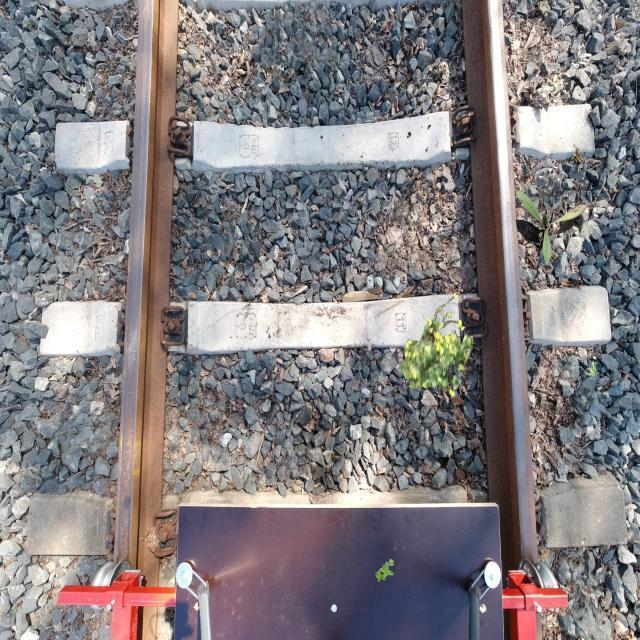Plant: (399, 293, 474, 398), (516, 190, 588, 264), (375, 559, 394, 584), (585, 360, 599, 376)
